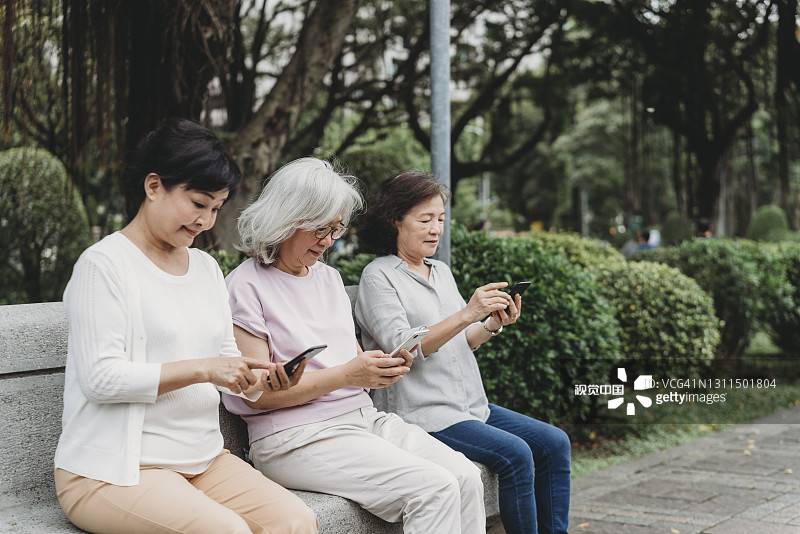reading: (195, 343, 332, 402), (447, 269, 540, 337), (345, 328, 434, 399)
